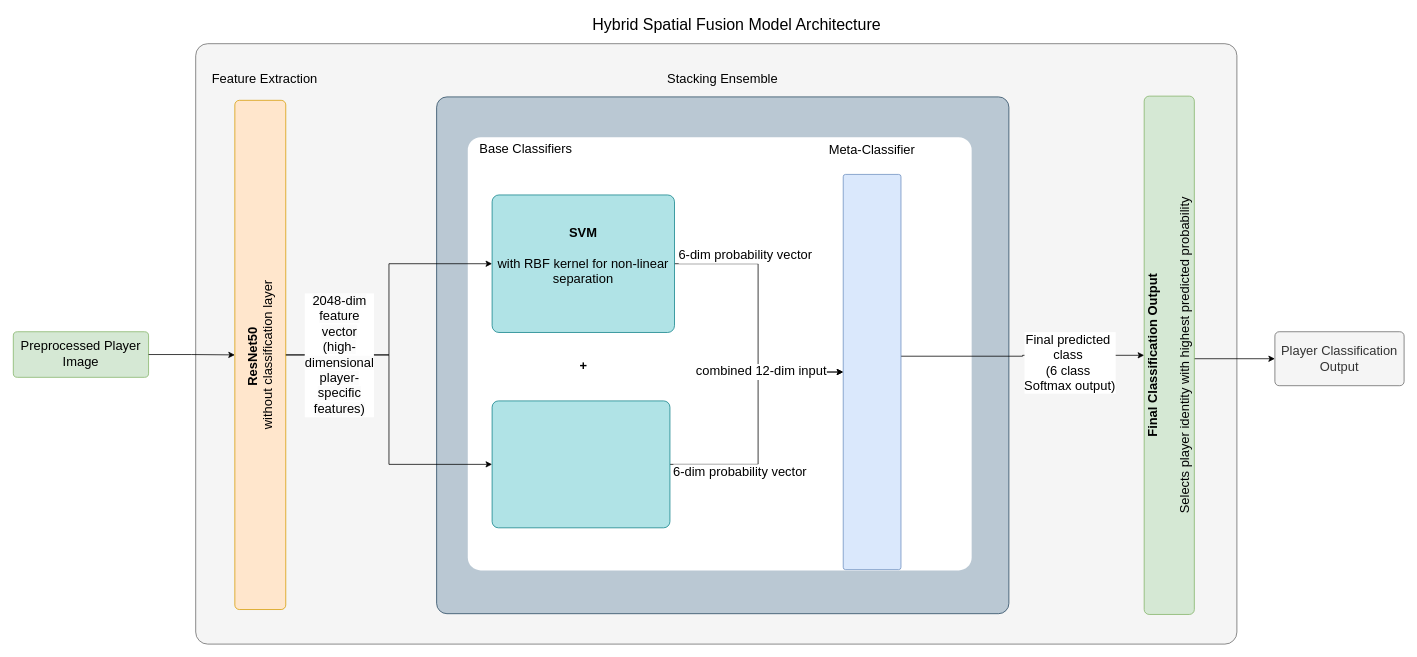
The diagram is 1417 pixels wide and 657 high, and some of its shapes have lost their labels. The shapes that lost their labels are listed below. From the top down, each one's box as (x1, y1, x2, y2) in pixels, then its label:
(842, 174, 901, 570): Logistic Regression Combine outputs from SVM and KNN into a unified prediction
(491, 400, 670, 528): KNN with Manhattan distance metric for local spatial generalization
